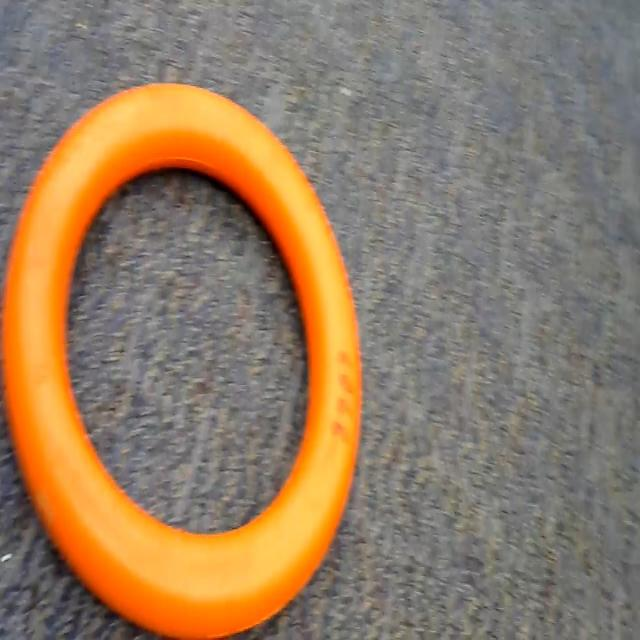note: (0, 79, 365, 640)
